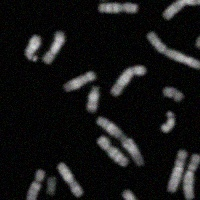chromosome: (96, 115, 143, 166), (146, 28, 200, 69), (111, 66, 146, 98), (96, 134, 127, 167), (56, 161, 83, 197), (167, 149, 187, 192), (62, 71, 97, 93), (183, 155, 200, 200), (43, 30, 65, 64), (163, 0, 200, 20), (24, 168, 43, 200), (96, 0, 139, 13), (24, 35, 41, 61), (159, 109, 176, 134), (88, 85, 100, 112), (162, 86, 181, 101), (122, 186, 142, 200), (46, 176, 56, 195), (194, 31, 200, 49)
